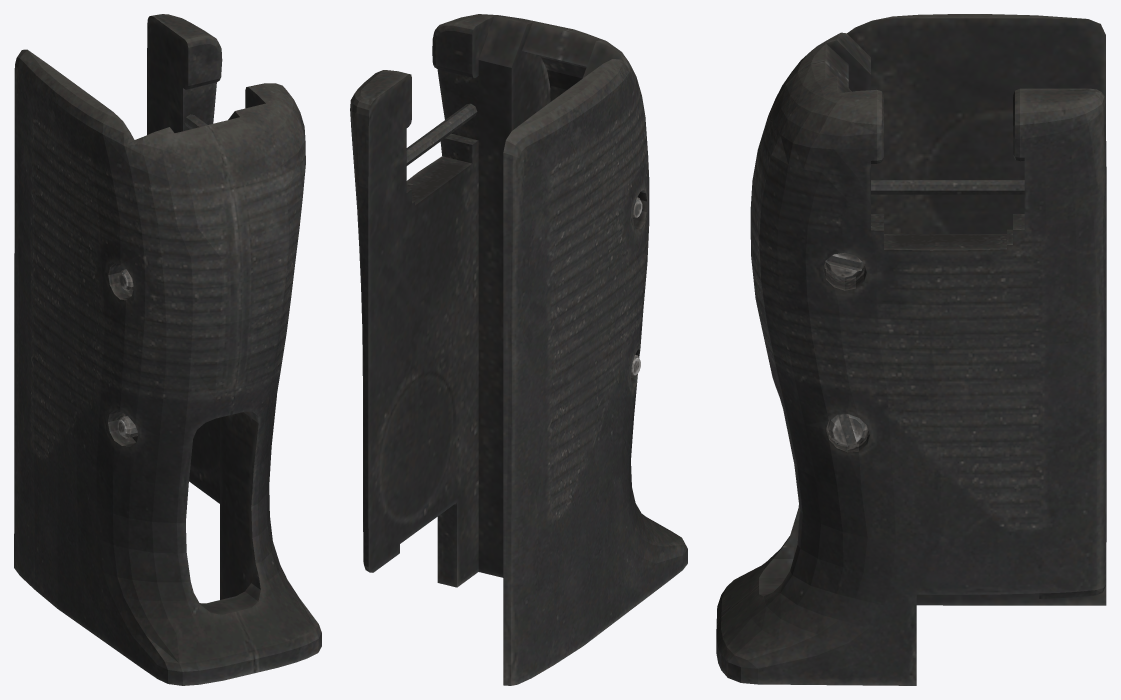
3 renders of one model, left to right at view 1: azimuth 30°, elevation 25°; view 2: azimuth 150°, elevation 25°; view 3: azimuth 270°, elevation 25°, orthographic. The views are drawn at different scales.
Visible parts, largest first — view 1: TW_669946c157df3e2b4e0a0dc5_PZ_Import; view 2: TW_669946c157df3e2b4e0a0dc5_PZ_Import; view 3: TW_669946c157df3e2b4e0a0dc5_PZ_Import.
Boxes of the visible parts, <box> form: TW_669946c157df3e2b4e0a0dc5_PZ_Import: <box>14,14,321,685</box>; TW_669946c157df3e2b4e0a0dc5_PZ_Import: <box>350,14,687,685</box>; TW_669946c157df3e2b4e0a0dc5_PZ_Import: <box>716,14,1106,685</box>.
Bounding box in the file's own units: 0.0214 × 0.0341 × 0.0566.
1 material, 1 textured.
